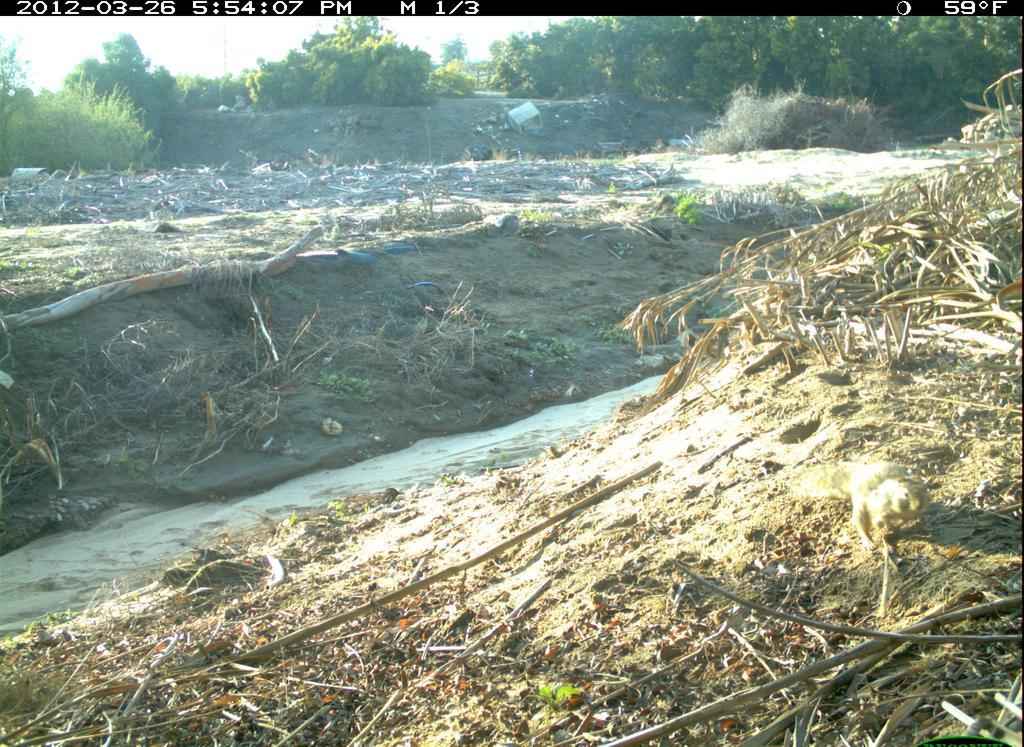squirrel: (787, 454, 938, 559)
